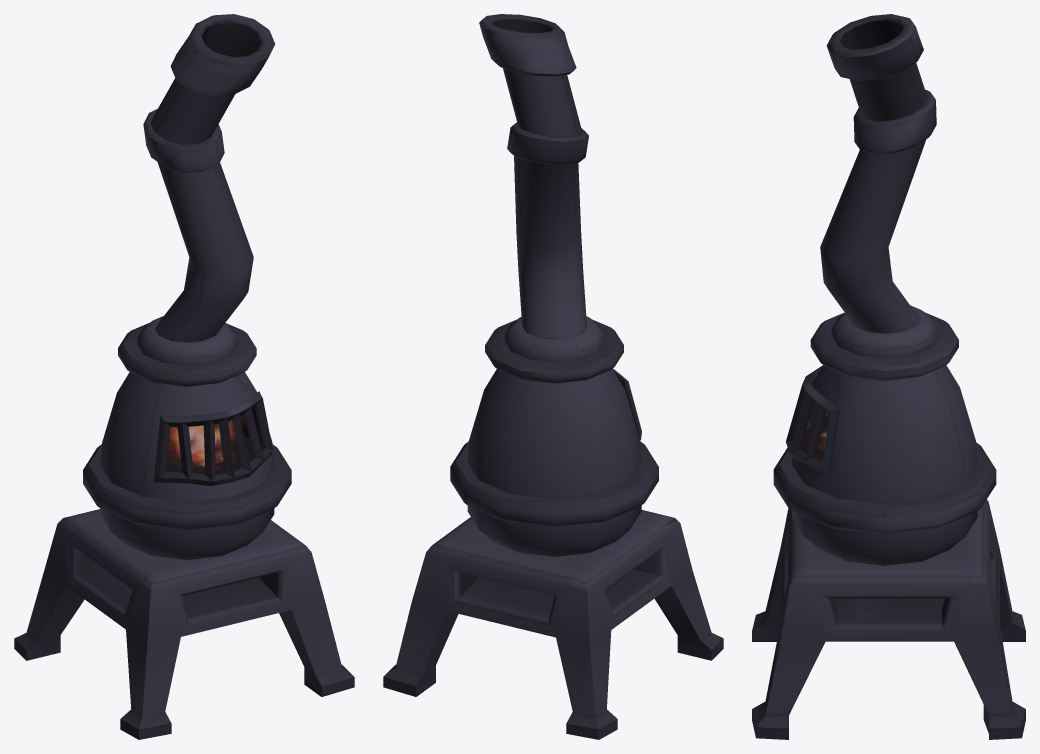
The model's file is Fornalha.fbx.
3 views of the same model, side by side, from view 1: azimuth 30°, elevation 25°; view 2: azimuth 150°, elevation 25°; view 3: azimuth 270°, elevation 25° (orthographic). The views are drawn at different scales.
Visible parts, largest first — view 1: Fornalha; view 2: Fornalha; view 3: Fornalha.
Part boxes in pixels (x1=…): Fornalha: x1=14, y1=14, x2=354, y2=739; Fornalha: x1=383, y1=14, x2=723, y2=739; Fornalha: x1=752, y1=14, x2=1025, y2=739.
Bounding box in the file's own units: 105 × 285 × 105.
